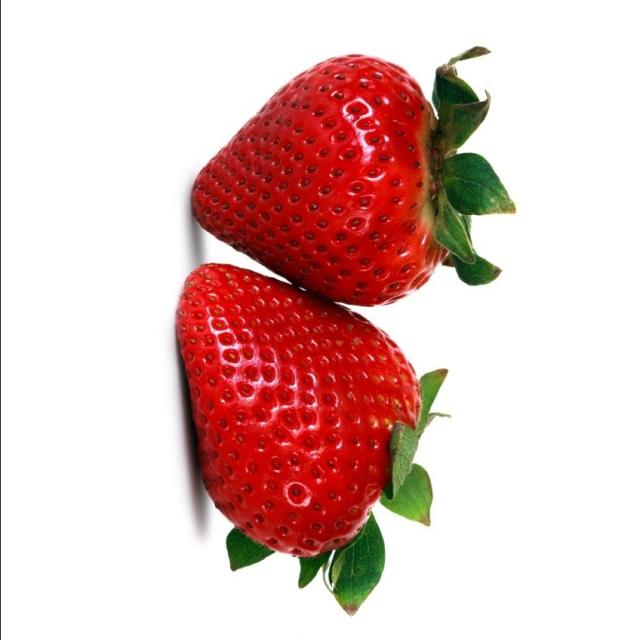strawberry: (183, 13, 521, 314)
